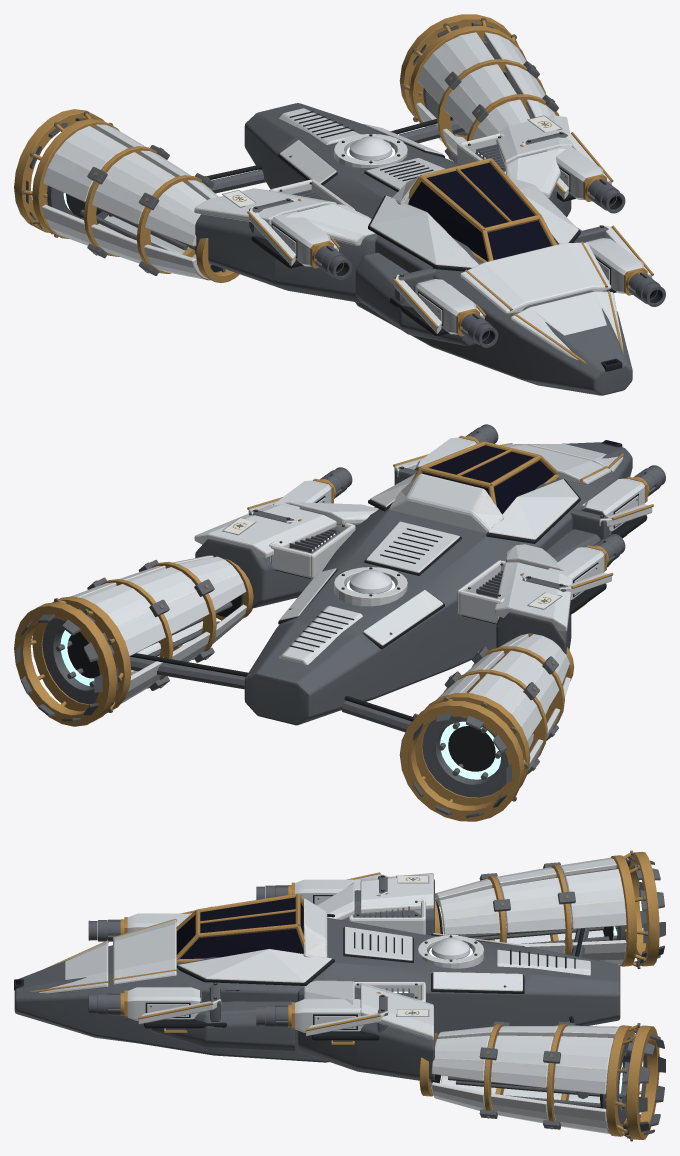
File: europa-schiff2.glb
3 renders of one model, top to bottom at view 1: azimuth 30°, elevation 25°; view 2: azimuth 150°, elevation 25°; view 3: azimuth 270°, elevation 25°, orthographic. The views are drawn at different scales.
Visible parts, largest first — view 1: Hull_europa_Armor, Hull_europa_BrushedAlloy, Hull_europa_EdgeGuards, Generator_01_Geometry, Laser_01_Geometry, Generator_03_Geometry; view 2: Hull_europa_Armor, Hull_europa_BrushedAlloy, Hull_europa_EdgeGuards, Generator_01_Geometry, Generator_03_Geometry, Laser_01_Geometry; view 3: Hull_europa_Armor, Hull_europa_BrushedAlloy, Hull_europa_EdgeGuards, Generator_01_Geometry, Generator_03_Geometry, Laser_01_Geometry.
Boxes of the visible parts, x1,y1,x2,y2 form: Hull_europa_Armor: (42,32,652,359); Hull_europa_BrushedAlloy: (26,23,632,395); Hull_europa_EdgeGuards: (14,14,653,363); Generator_01_Geometry: (20,17,665,371); Laser_01_Geometry: (336,163,654,364); Generator_03_Geometry: (269,136,644,334); Hull_europa_Armor: (70,444,652,770); Hull_europa_BrushedAlloy: (16,442,632,817); Hull_europa_EdgeGuards: (14,441,653,821); Generator_01_Geometry: (31,424,665,801); Generator_03_Geometry: (273,437,645,599); Laser_01_Geometry: (422,440,618,513); Hull_europa_Armor: (39,857,626,1134); Hull_europa_BrushedAlloy: (14,856,665,1138); Hull_europa_EdgeGuards: (30,852,659,1139); Generator_01_Geometry: (14,850,648,1141); Generator_03_Geometry: (127,879,470,1032); Laser_01_Geometry: (16,897,303,984).
Bounding box in the file's own units: 13.19 × 3.85 × 16.36.
Materials: 10 (10 with a texture image).
